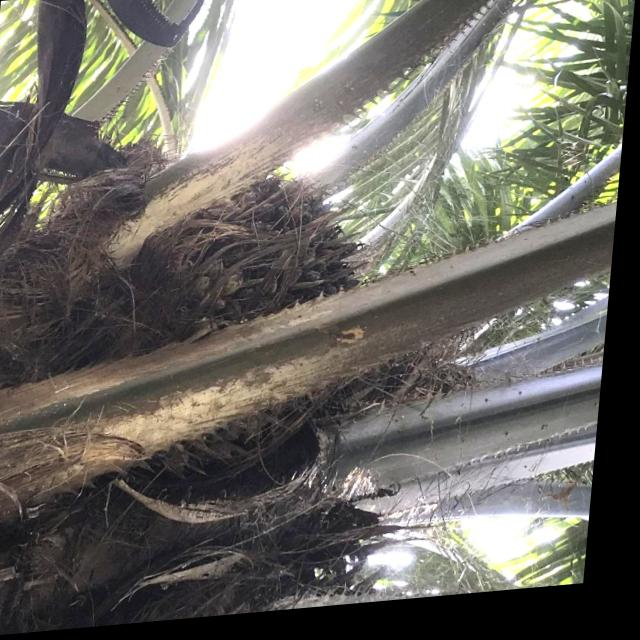almost: (88, 156, 386, 370)
